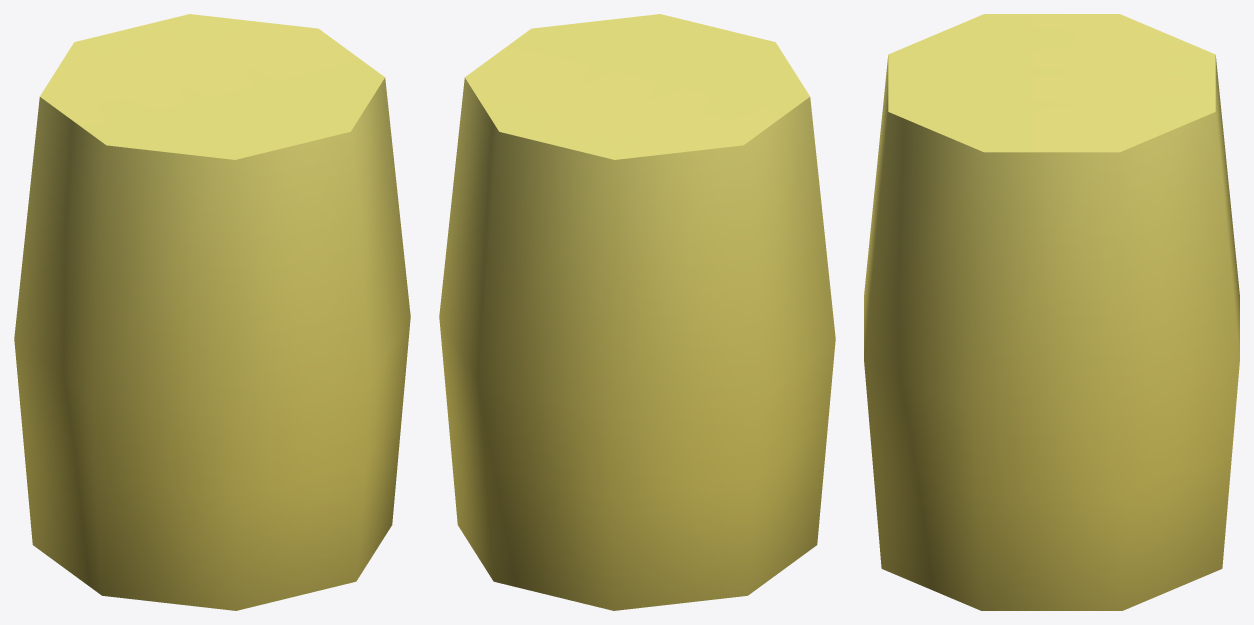
File: mug_glass_content_beer.fbx
The picture shows the model from 3 angles, left to right: view 1: azimuth 30°, elevation 25°; view 2: azimuth 150°, elevation 25°; view 3: azimuth 270°, elevation 25°; orthographic projection.
Visible parts, largest first — view 1: mug_glass_content_beer; view 2: mug_glass_content_beer; view 3: mug_glass_content_beer.
Boxes of the visible parts, <box> form: mug_glass_content_beer: <box>14,14,410,610</box>; mug_glass_content_beer: <box>439,14,835,610</box>; mug_glass_content_beer: <box>864,14,1239,610</box>.
Size of the model in its own units: 16.16 by 21.62 by 16.16.
